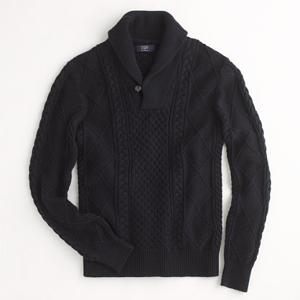S_cardigan sweater: (26, 22, 277, 287)
